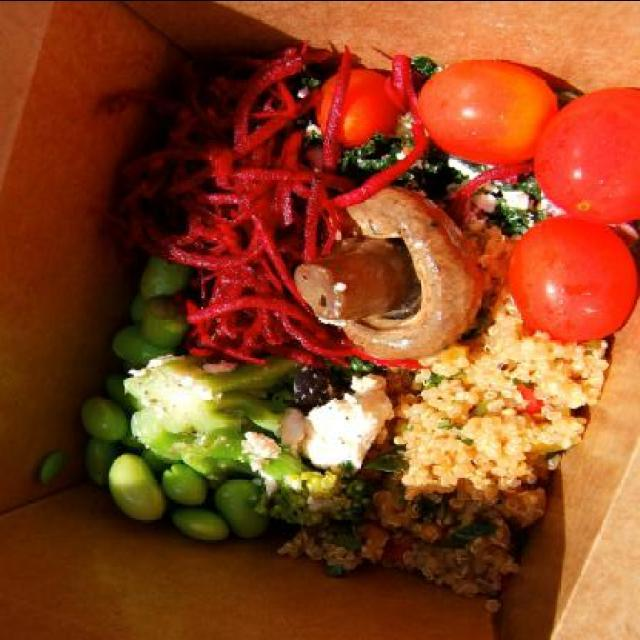Tomato: (506, 212, 637, 344), (420, 59, 562, 172), (536, 90, 640, 222), (310, 70, 404, 152)
